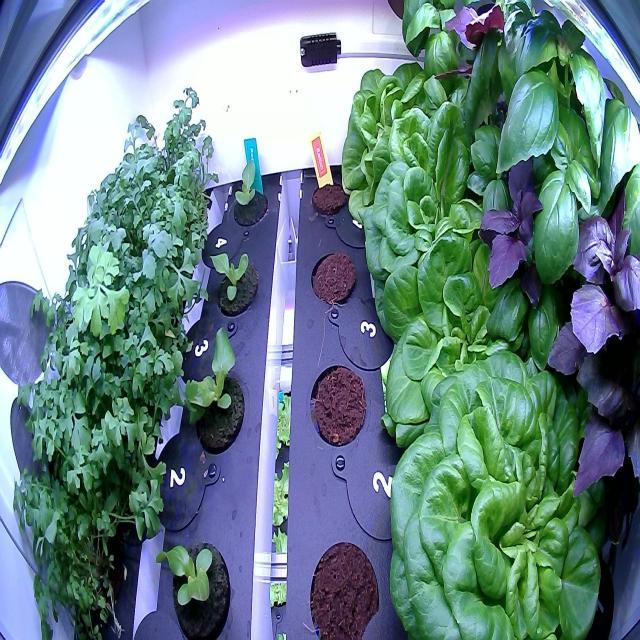Ready: (380, 342, 613, 640), (372, 226, 571, 446), (355, 120, 520, 296), (334, 56, 476, 210)
pod: (150, 512, 239, 640), (174, 315, 249, 465), (300, 530, 384, 640), (302, 352, 374, 452), (206, 232, 264, 326), (225, 150, 271, 233), (307, 242, 360, 312), (307, 162, 359, 229)
